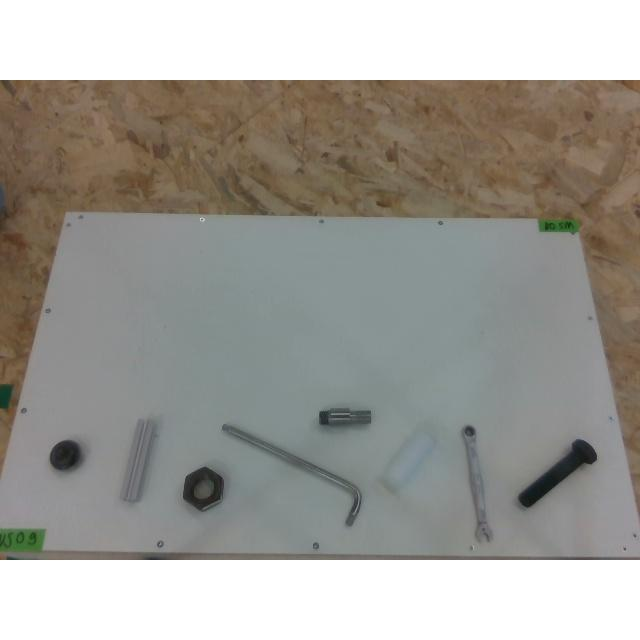AllenKey: (222, 424, 362, 524)
Axis2: (319, 408, 371, 424)
Bearing2: (50, 440, 82, 470)
F20_20_G: (121, 419, 155, 501)
M20_100: (518, 439, 596, 507)
M30: (183, 466, 224, 510)
Spacer: (380, 423, 436, 492)
Wrench: (462, 426, 492, 542)
